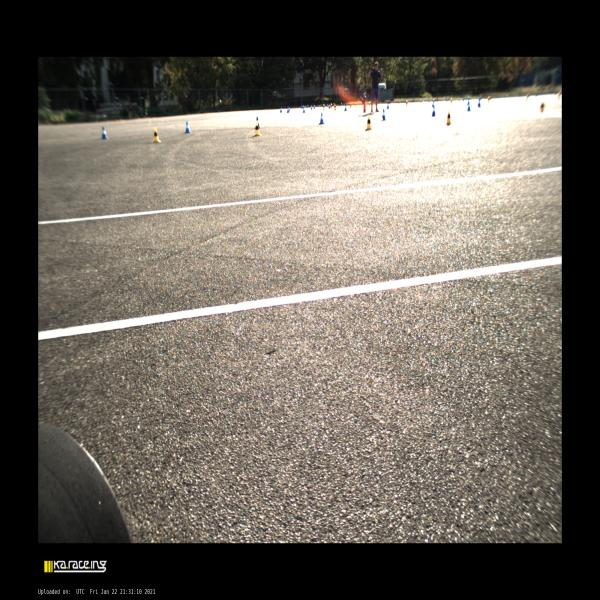blue_cone: (101, 127, 108, 139), (185, 121, 191, 133), (319, 112, 324, 125), (382, 109, 386, 120), (432, 106, 436, 116), (467, 102, 471, 111), (477, 99, 481, 107), (386, 102, 389, 110), (344, 104, 347, 111), (303, 107, 306, 113), (310, 104, 313, 110), (328, 103, 331, 109), (302, 104, 305, 109), (432, 100, 434, 107), (466, 98, 468, 105), (280, 106, 282, 112), (287, 107, 289, 113), (314, 103, 316, 109), (306, 104, 308, 108), (301, 104, 302, 109), (289, 106, 290, 111), (327, 103, 328, 107)
yellow_cone: (153, 128, 161, 142), (254, 122, 262, 136), (365, 115, 372, 131), (446, 111, 451, 124), (340, 102, 343, 108), (330, 102, 332, 110), (323, 103, 325, 110), (334, 104, 336, 110), (369, 101, 371, 107), (406, 100, 408, 106), (333, 103, 335, 107)
